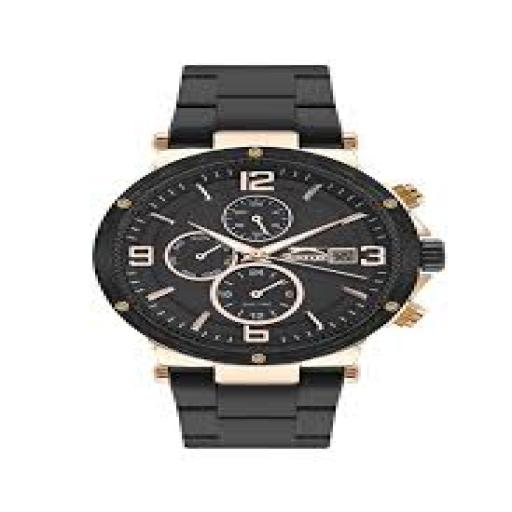KolSaati: (44, 22, 468, 466)
